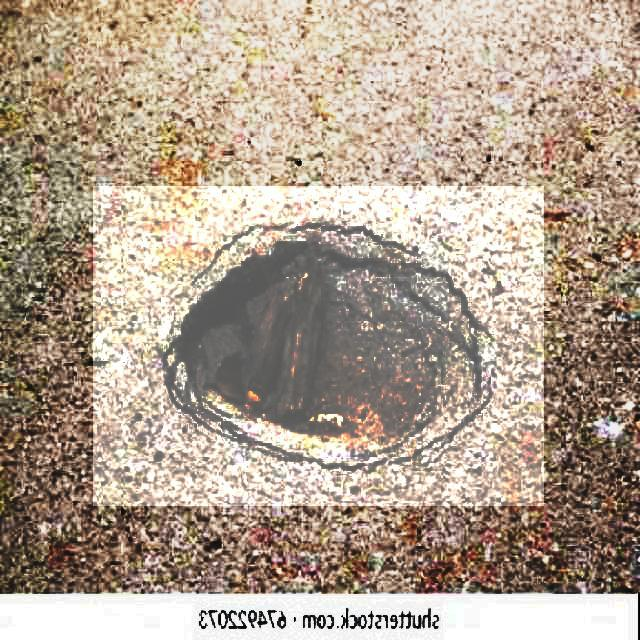pothole: (93, 186, 544, 506)
